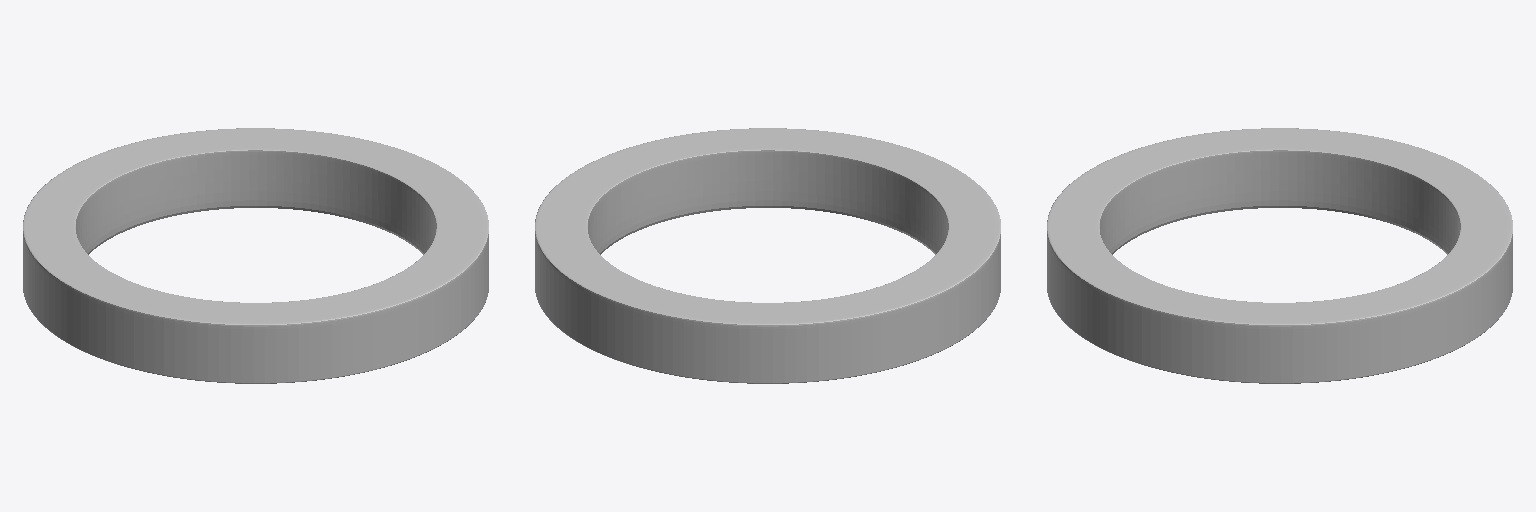
File: ring3.obj
3 views of the same model, side by side, from view 1: azimuth 30°, elevation 25°; view 2: azimuth 150°, elevation 25°; view 3: azimuth 270°, elevation 25° (orthographic).
Parts seen in each view (by area): view 1: Ring3.004_SecondBigRing.004; view 2: Ring3.004_SecondBigRing.004; view 3: Ring3.004_SecondBigRing.004.
Part boxes in pixels (x1,y1,x2,y2): Ring3.004_SecondBigRing.004: (23,128,488,383); Ring3.004_SecondBigRing.004: (535,128,1000,383); Ring3.004_SecondBigRing.004: (1047,128,1512,383).
Bounding box in the file's own units: 3.05 × 0.4292 × 3.05.